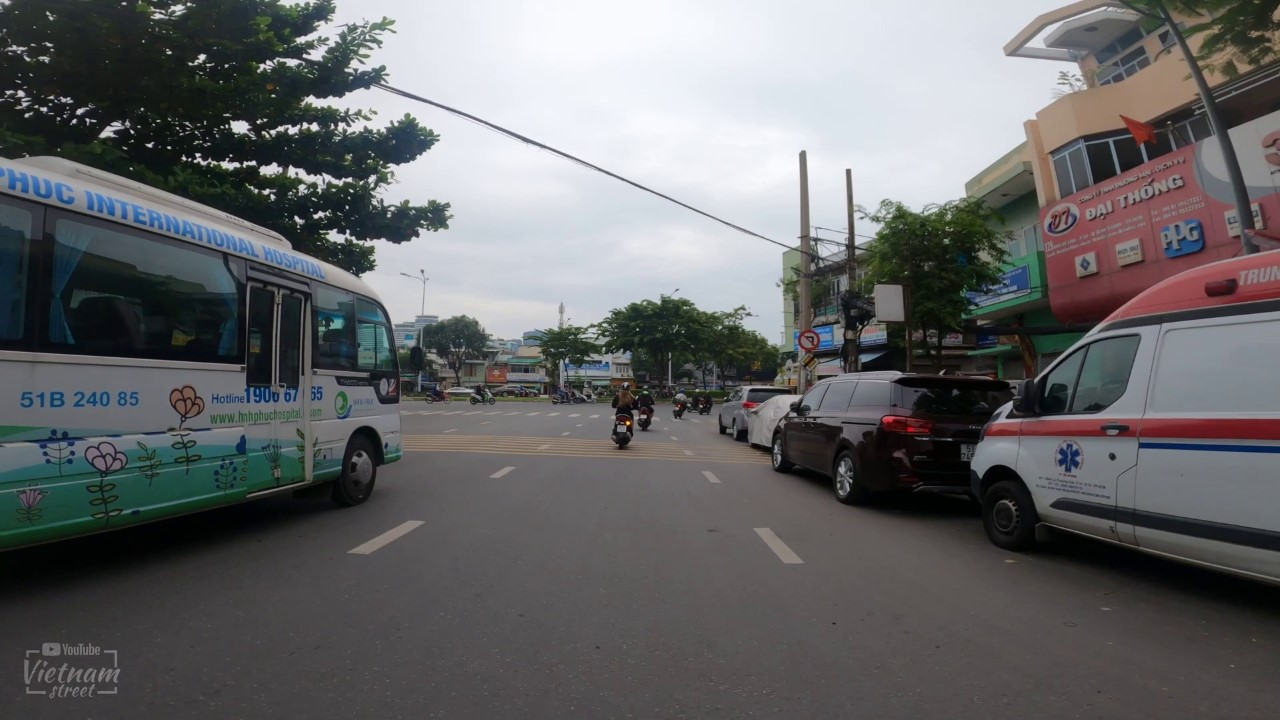cam_re_trai: (797, 329, 820, 351)
